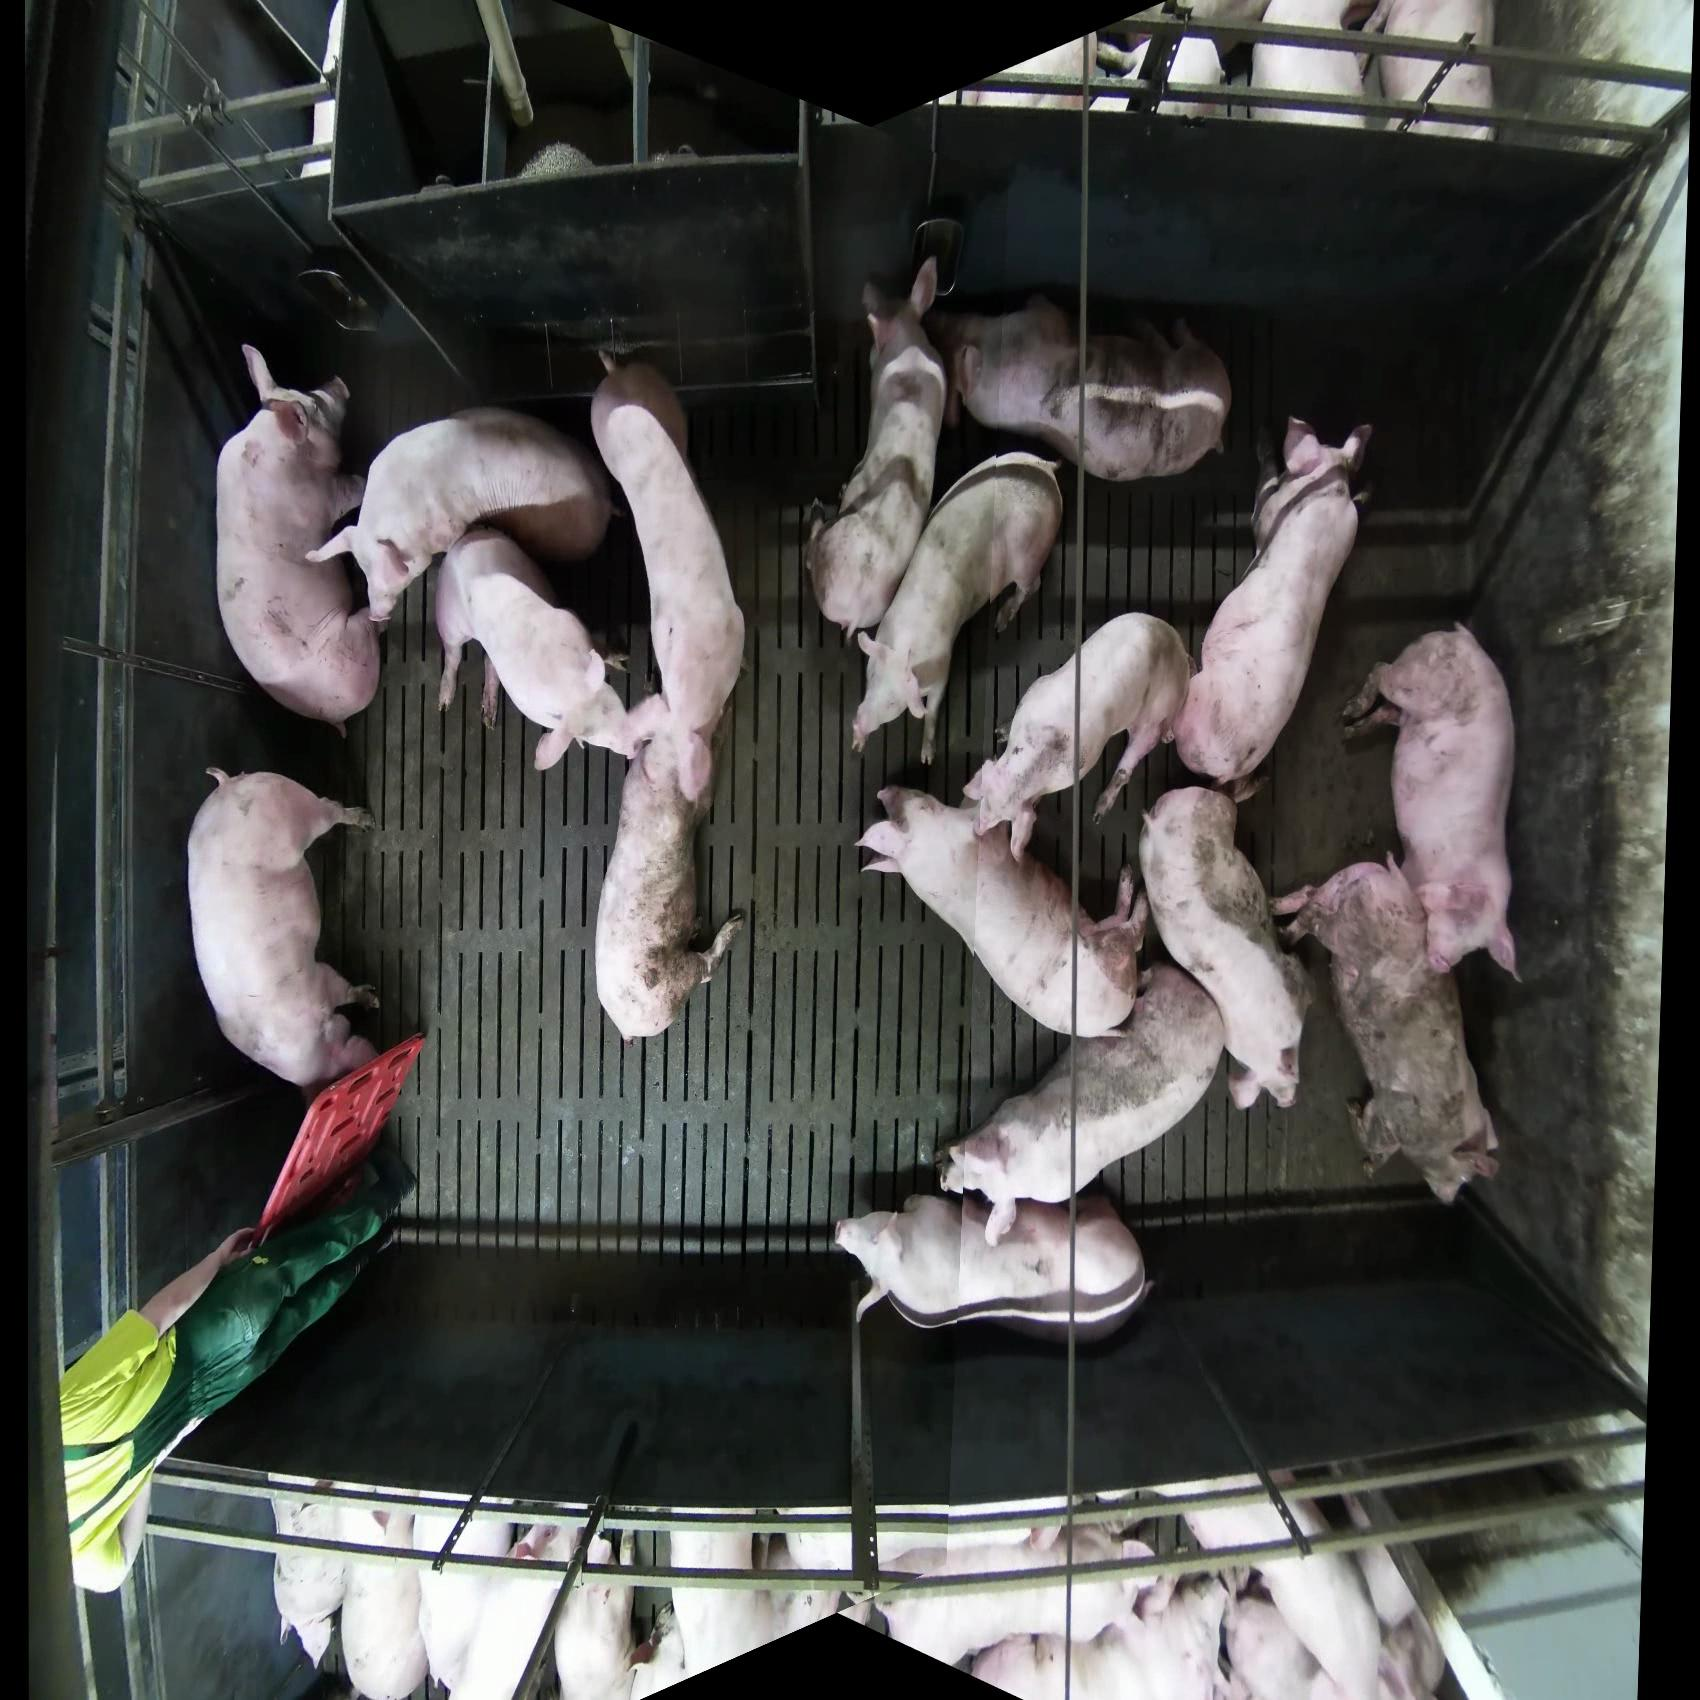pig: (935, 961, 1228, 1249), (1271, 853, 1502, 1206), (1170, 414, 1376, 805), (853, 783, 1151, 1040), (589, 348, 748, 805), (303, 404, 613, 634), (848, 451, 1065, 766), (1338, 620, 1522, 985), (213, 343, 384, 735), (185, 765, 382, 1093), (961, 611, 1194, 860), (932, 293, 1234, 484), (1138, 785, 1313, 1113), (805, 255, 949, 650), (432, 528, 664, 772), (593, 699, 746, 1043), (833, 1191, 1151, 1343), (871, 1522, 1158, 1669), (630, 1525, 840, 1698), (269, 1485, 427, 1699), (433, 1521, 618, 1699), (1367, 1, 1498, 142), (1248, 1, 1379, 128)
worker: (57, 1145, 415, 1596)
